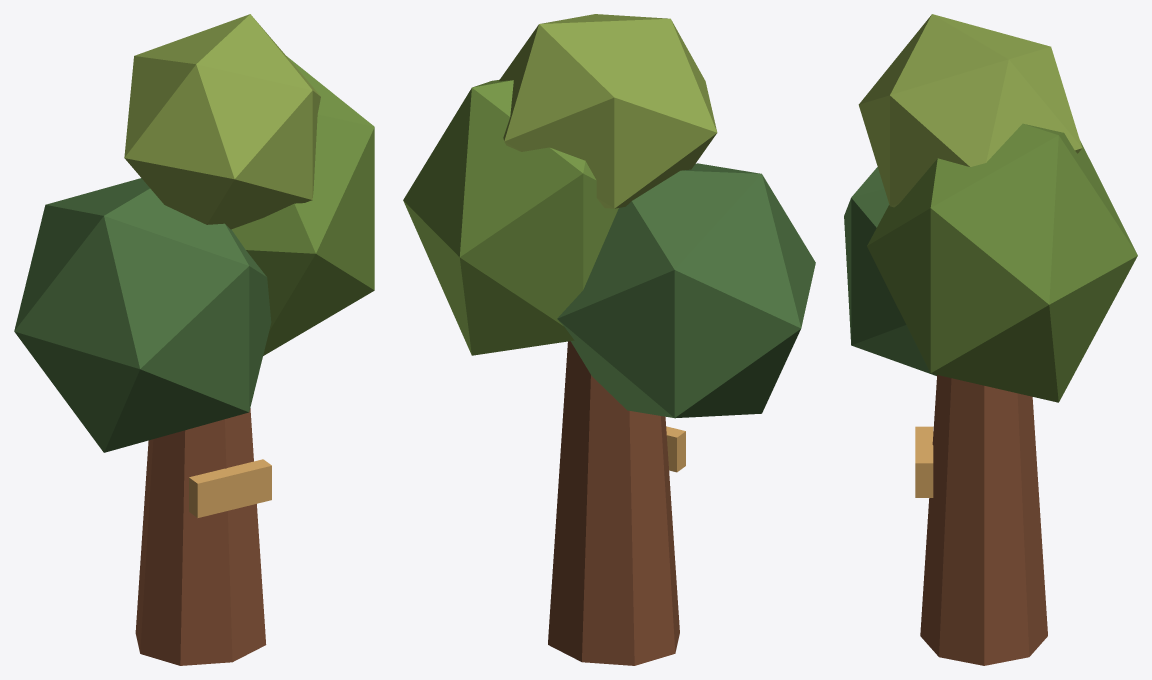
Rendered from ForestRecoveryTree.glb.
3 views of the same model, side by side, from view 1: azimuth 30°, elevation 25°; view 2: azimuth 150°, elevation 25°; view 3: azimuth 270°, elevation 25° (orthographic).
Visible parts, largest first — view 1: Regrown tree · Icosahedron 003.001, Regrown tree · Icosahedron 005.001, Regrown tree · Cylinder 001.001, Regrown tree · Icosahedron 004.001, Regrown tree · Box 006.001; view 2: Regrown tree · Icosahedron 003.001, Regrown tree · Icosahedron 004.001, Regrown tree · Cylinder 001.001, Regrown tree · Icosahedron 005.001, Regrown tree · Box 006.001; view 3: Regrown tree · Icosahedron 004.001, Regrown tree · Cylinder 001.001, Regrown tree · Icosahedron 005.001, Regrown tree · Icosahedron 003.001, Regrown tree · Box 006.001.
Part boxes in pixels (x1=…): Regrown tree · Icosahedron 003.001: x1=14, y1=178, x2=271, y2=452; Regrown tree · Icosahedron 005.001: x1=124, y1=14, x2=320, y2=229; Regrown tree · Cylinder 001.001: x1=135, y1=408, x2=266, y2=665; Regrown tree · Icosahedron 004.001: x1=231, y1=56, x2=374, y2=355; Regrown tree · Box 006.001: x1=189, y1=459, x2=271, y2=517; Regrown tree · Icosahedron 003.001: x1=557, y1=163, x2=815, y2=418; Regrown tree · Icosahedron 004.001: x1=403, y1=79, x2=618, y2=355; Regrown tree · Cylinder 001.001: x1=548, y1=341, x2=679, y2=665; Regrown tree · Icosahedron 005.001: x1=499, y1=14, x2=717, y2=208; Regrown tree · Box 006.001: x1=666, y1=426, x2=685, y2=472; Regrown tree · Icosahedron 004.001: x1=867, y1=123, x2=1137, y2=402; Regrown tree · Cylinder 001.001: x1=920, y1=375, x2=1047, y2=665; Regrown tree · Icosahedron 005.001: x1=858, y1=14, x2=1082, y2=207; Regrown tree · Icosahedron 003.001: x1=844, y1=167, x2=936, y2=375; Regrown tree · Box 006.001: x1=915, y1=426, x2=933, y2=497.
Size of the model in its own units: 0.9244 by 1.47 by 0.6438.
